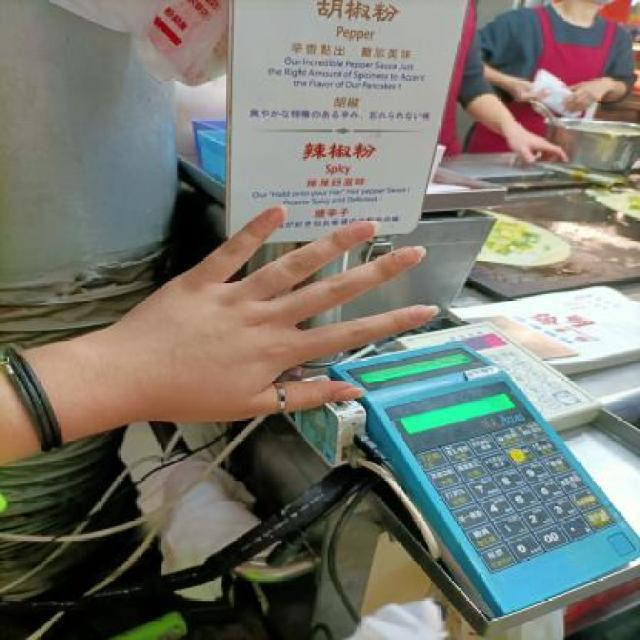bare_hand: (84, 196, 458, 439)
